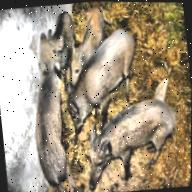boar: (79, 98, 182, 192), (54, 31, 145, 129), (25, 23, 73, 191), (63, 23, 102, 84)
